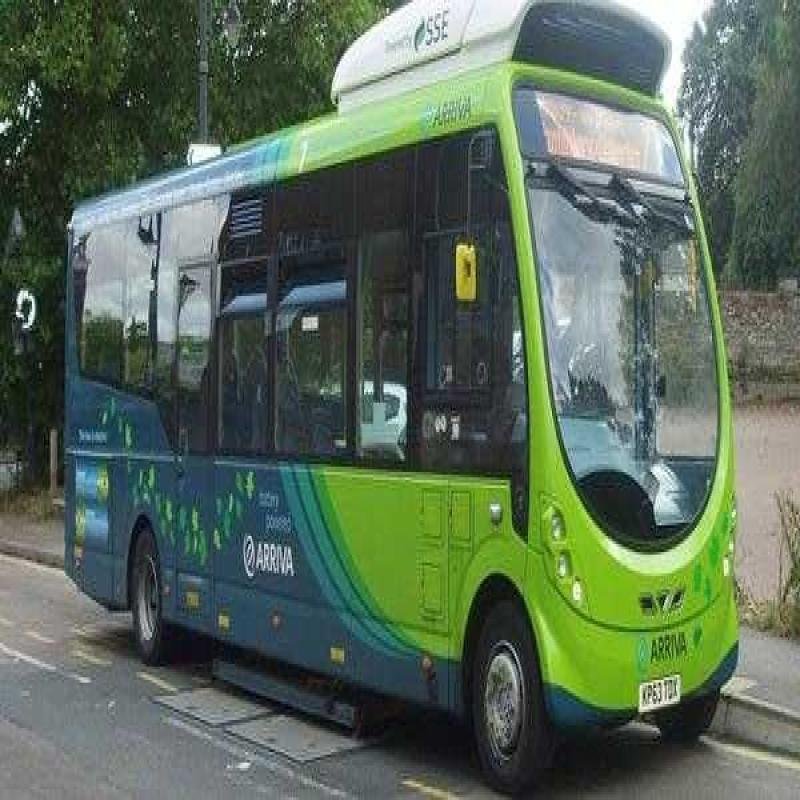bus: (54, 43, 760, 789)
